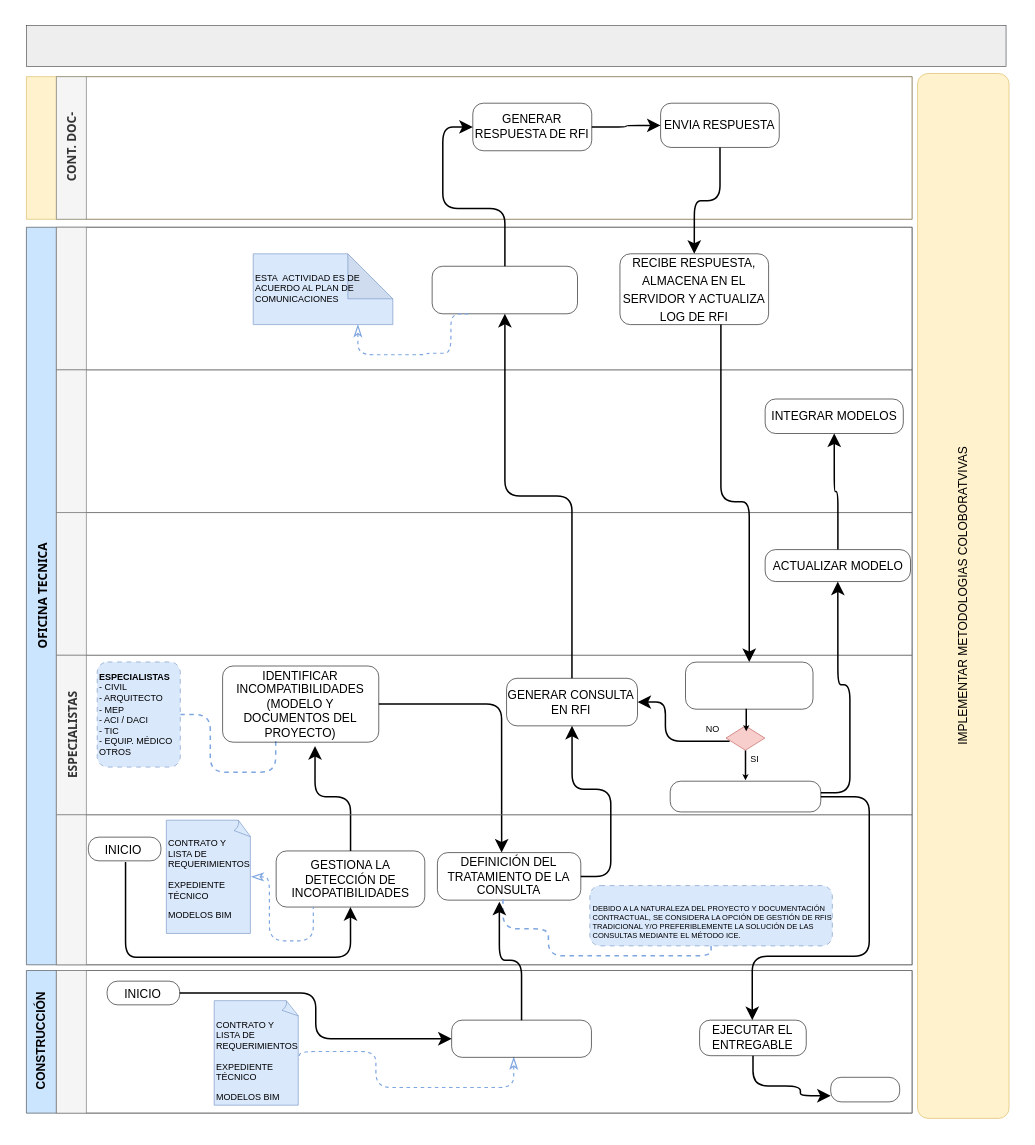
This 1035x1145 diagram has some shape labels left out. Here are the shapes that lost their labels. From the top down, the box of each, then its label:
(25, 25, 1006, 66): FLUJOGRAMA: REQUERIMIENTO DE INFORMACIÓN (RFI)
(25, 76, 912, 219): SUPERVISIÓN
(55, 226, 912, 369): CONT. DOC.
(431, 265, 577, 313): ENVIO DE RFI A SUPERVISIÓN
(55, 369, 912, 512): COORD. BIM
(55, 512, 912, 655): MOD. BIM
(684, 661, 813, 709): REVISIÓN Y EVALUACIÓN DE LA RESPUESTA
(669, 780, 820, 812): CIERRA EL RFI COMO SEÑAL DE APROBACIÓN
(55, 814, 912, 964): JOT
(451, 1019, 591, 1057): IDENTIFICAR INCOMPATIBILIDADES
(830, 1076, 899, 1101): FIN
